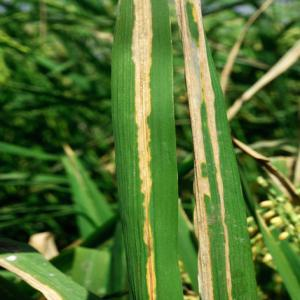Bacterial_Blight: (173, 2, 249, 294), (109, 1, 180, 297)
